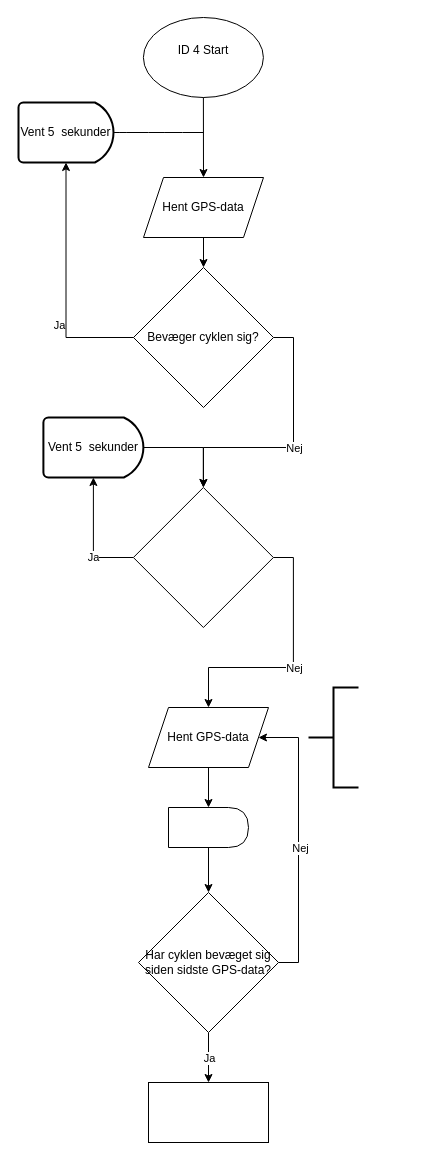
Some shapes in this 428 by 1160 pixel diagram are drawn without their labels. The box of each missing label's shape, as (x1, y1, x2, y2) in pixels:
Fra GPS- modulet: (307, 686, 359, 788)
Har den bevæget sig indenfor 3 minutter?: (132, 486, 273, 628)
Send data til ThingsBoard: (148, 1082, 268, 1142)
Vent 10 sekunder: (168, 806, 248, 848)
